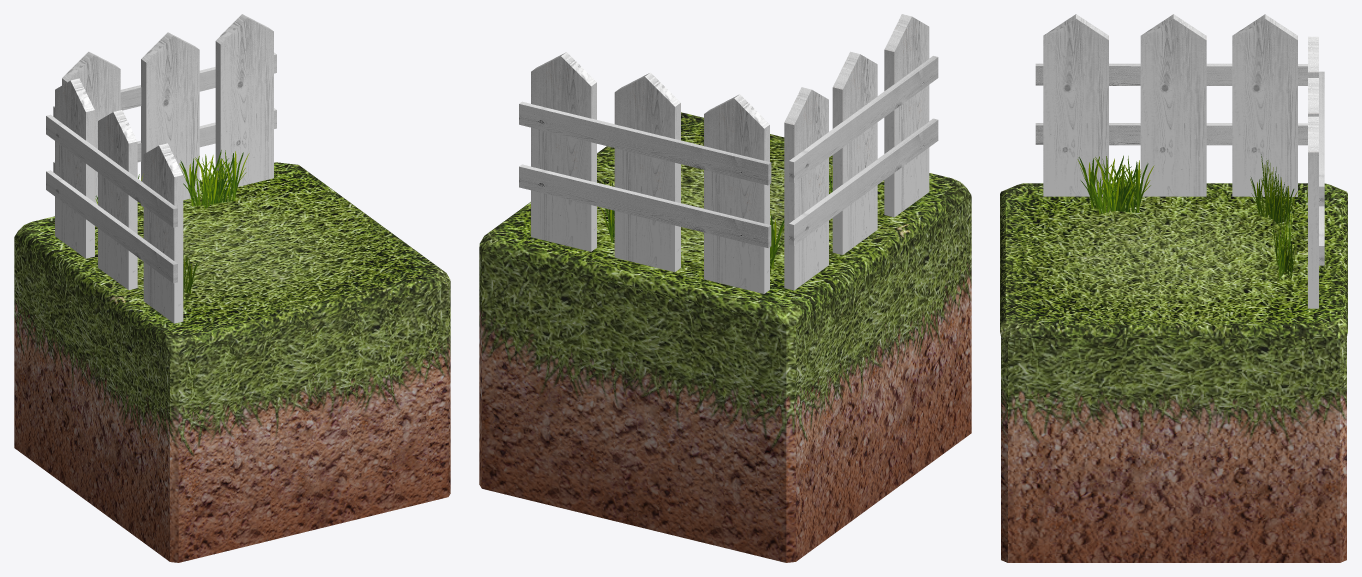
The model's file is box_mitZaunEcke.fbx.
3 renders of one model, left to right at view 1: azimuth 30°, elevation 25°; view 2: azimuth 150°, elevation 25°; view 3: azimuth 270°, elevation 25°, orthographic. The views are drawn at different scales.
Visible parts, largest first — view 1: Box, Fence_001, Fence, Grass02; view 2: Box, Fence, Fence_001; view 3: Box, Fence_001, Fence, Grass02_001, Grass01, Grass02.
Part boxes in pixels (bbox=[...]): Box: bbox=[14, 162, 450, 562]; Fence_001: bbox=[46, 78, 183, 323]; Fence: bbox=[53, 14, 276, 206]; Grass02: bbox=[179, 150, 249, 209]; Box: bbox=[479, 112, 971, 562]; Fence: bbox=[519, 52, 771, 293]; Fence_001: bbox=[784, 14, 938, 290]; Box: bbox=[1000, 183, 1347, 562]; Fence_001: bbox=[1035, 14, 1307, 196]; Fence: bbox=[1308, 36, 1324, 308]; Grass02_001: bbox=[1077, 155, 1154, 213]; Grass01: bbox=[1250, 154, 1297, 228]; Grass02: bbox=[1272, 208, 1296, 280].
Size of the model in its own units: 4.02 by 5.28 by 4.02.
